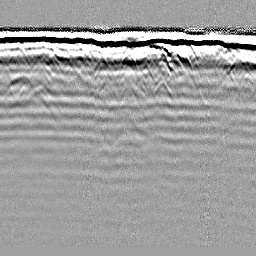cavity: (119, 47, 138, 69)
